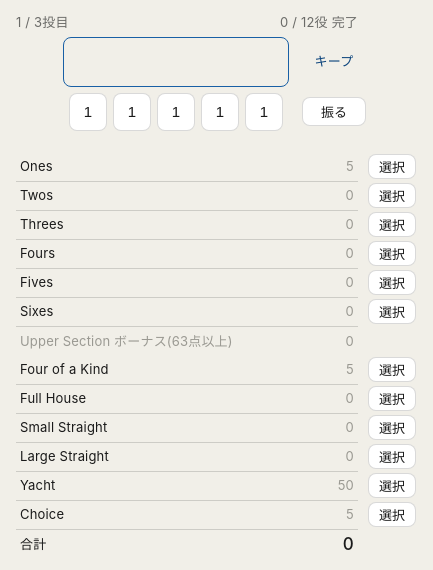
Test: PlayScreen › Upper Sectionの確定得点合計が63点以上になるとボーナスが加算される
The image size is (433, 570).
Click the button named "選択: Ones".
click(392, 167)  # box [368,154,416,179]
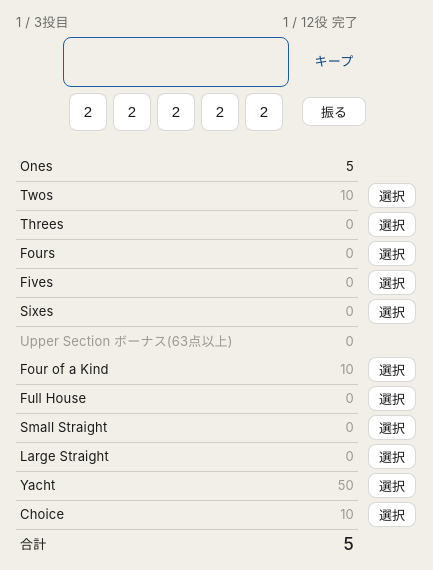
Click the 1st button "選択".
click(392, 196)  # box [368,183,416,208]
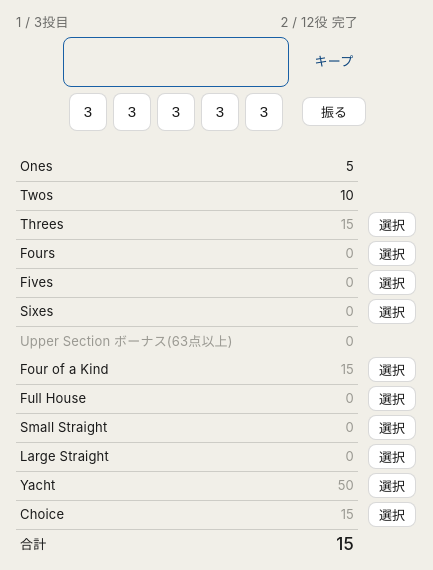
Click the 1st button "選択".
click(392, 225)  # box [368,212,416,237]
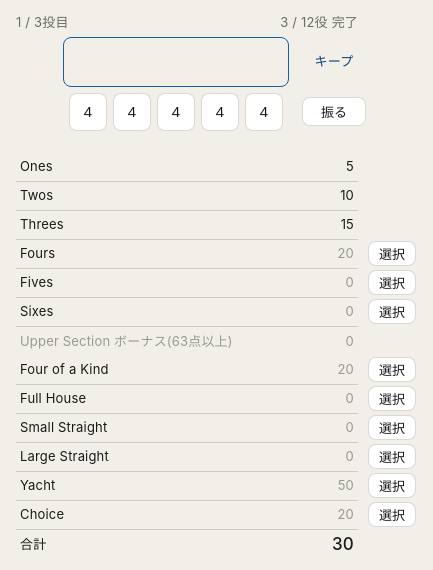
Click the 1st button "選択".
click(392, 254)  # box [368,241,416,266]
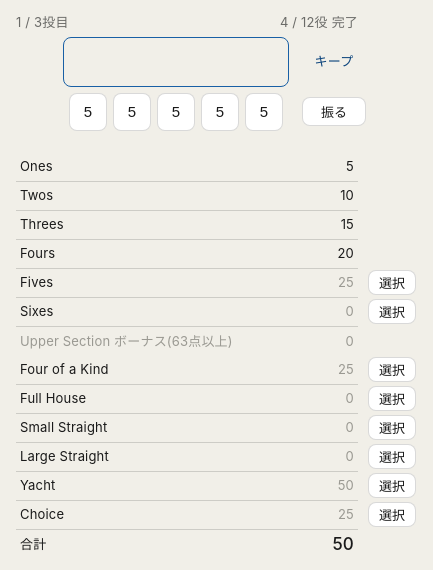
Click the 1st button "選択".
click(392, 283)  # box [368,270,416,295]
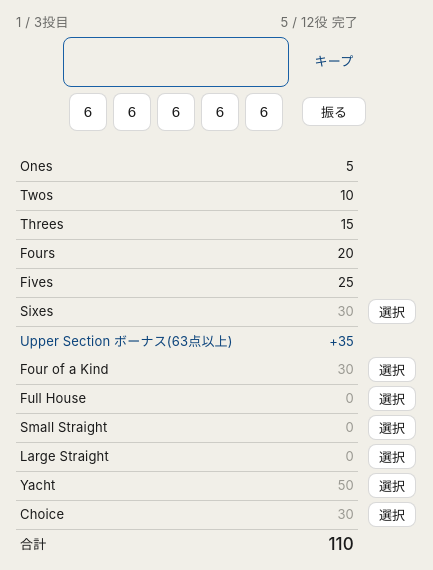
Click the 1st button "選択".
click(392, 312)  # box [368,299,416,324]
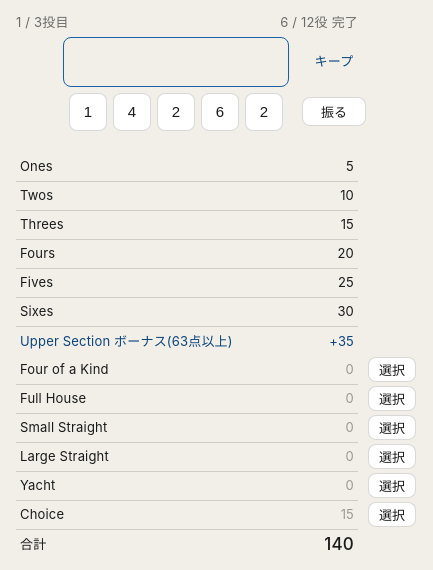
Expected: the cell with test id "bonus" reads "+35", [329,333,354,349]
Expected: the cell with test id "grand-total" reads "140", [324,534,354,554]
